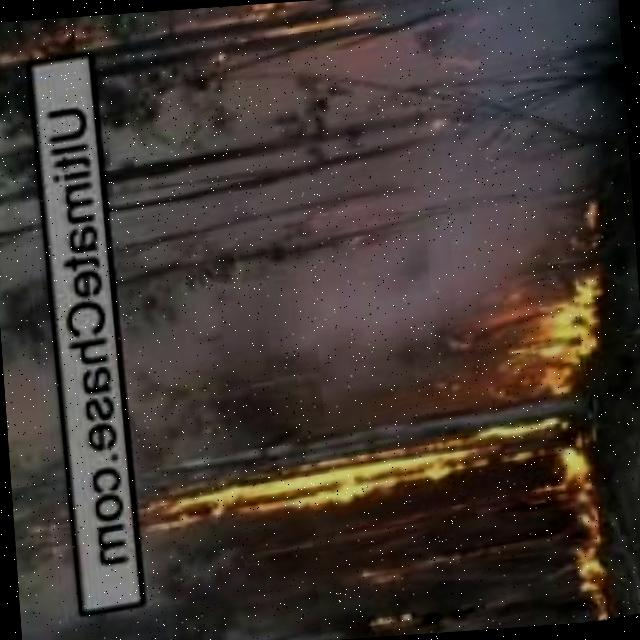fire: (485, 288, 639, 628), (124, 430, 525, 550), (222, 0, 397, 61), (0, 15, 98, 77), (371, 599, 434, 633)
